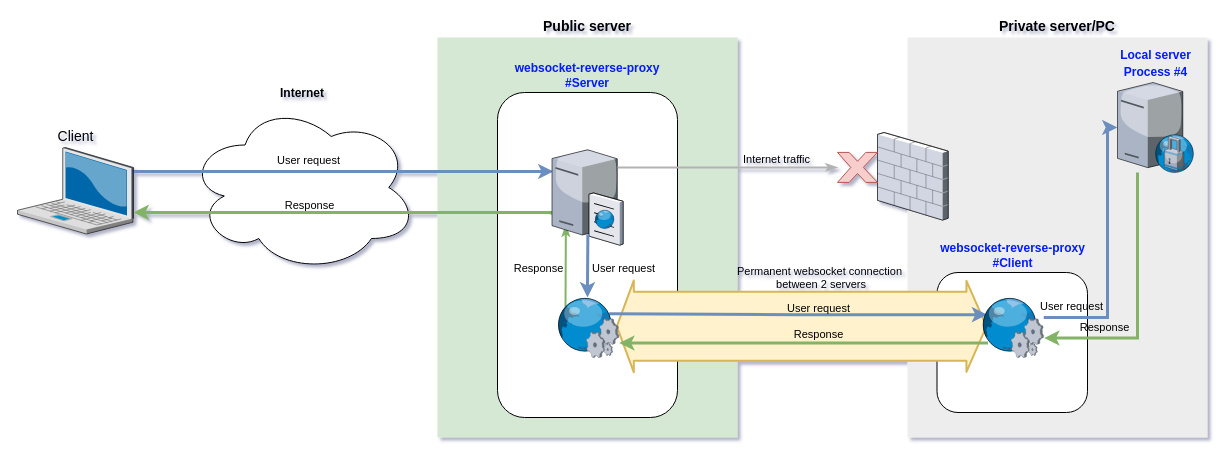
Image size: 1230x460. Some labels were removed from this diagram. Here are the shapes that lost their labels. From the top down, the centre of each, then its label:
point (587, 195): HTTP/HTTPS server Process #1
point (912, 176): Firewall
point (587, 327): Websocket server Process #2
point (1011, 327): Websocket client and proxy Process #3
